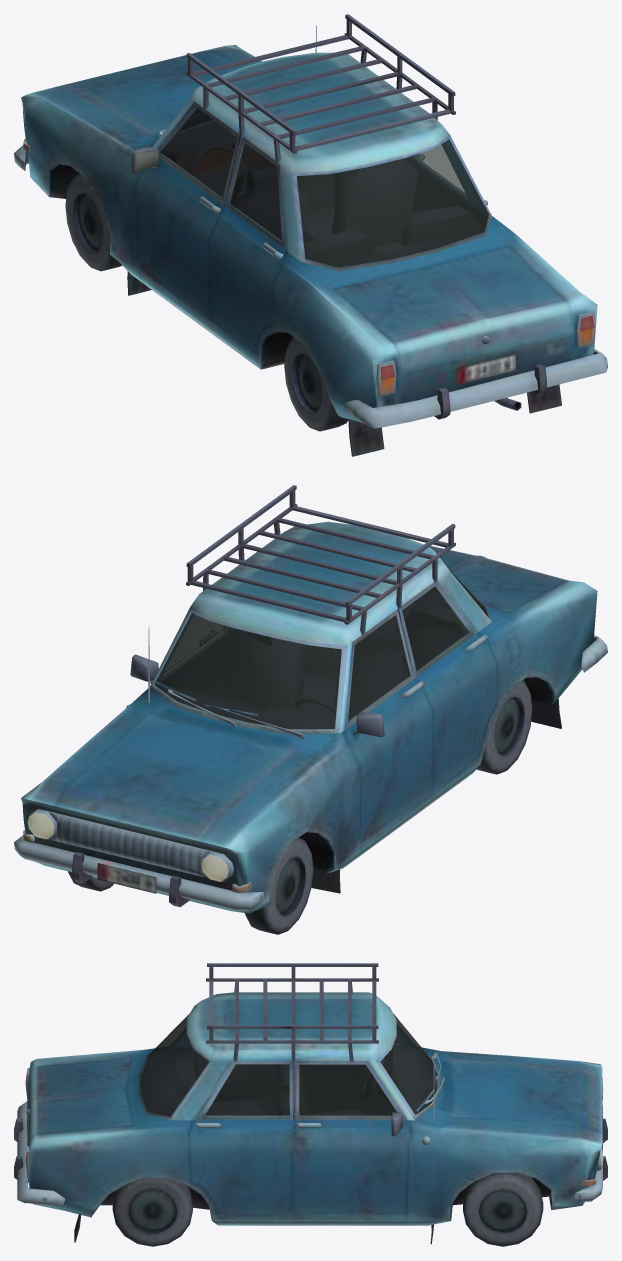
Rendered from car4.glb.
The picture shows the model from 3 angles, top to bottom: view 1: azimuth 30°, elevation 25°; view 2: azimuth 150°, elevation 25°; view 3: azimuth 270°, elevation 25°; orthographic projection. The views are drawn at different scales.
Parts seen in each view (by area): view 1: MSH_Volga_MAT_Car_0; view 2: MSH_Volga_MAT_Car_0; view 3: MSH_Volga_MAT_Car_0.
Boxes of the visible parts, x1,y1,x2,y2 form: MSH_Volga_MAT_Car_0: (14, 14, 607, 456); MSH_Volga_MAT_Car_0: (14, 485, 607, 934); MSH_Volga_MAT_Car_0: (14, 963, 607, 1246).
Size of the model in its own units: 1.63 by 1.65 by 4.15.
3 materials, 3 textured.
